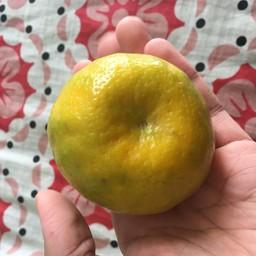Good_orange: (45, 48, 228, 216)
